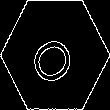O_NE: (26, 24, 84, 86)
